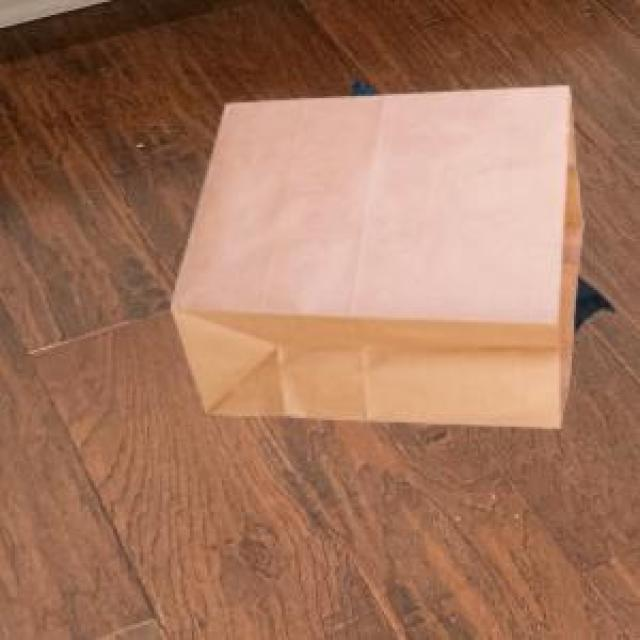miscellaneous trash: (348, 77, 610, 329)
paper: (166, 81, 578, 422)
